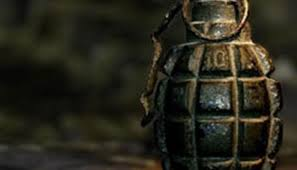e1: (138, 1, 284, 169)
